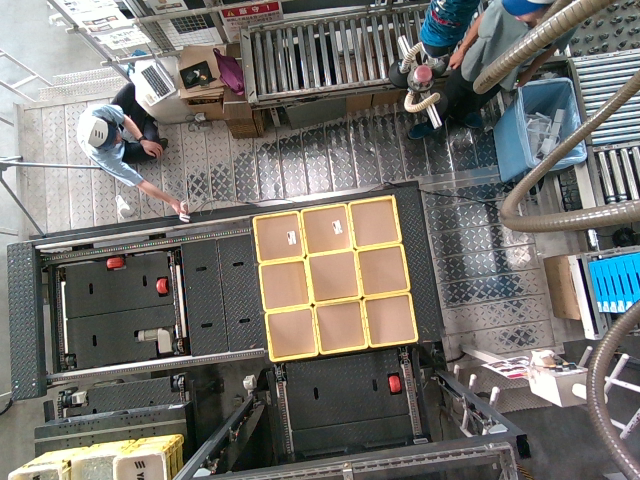box: (249, 212, 302, 260), (299, 205, 352, 253), (347, 199, 400, 247), (356, 245, 409, 293), (305, 253, 358, 301), (255, 259, 308, 307), (267, 310, 320, 358), (313, 301, 366, 349), (361, 293, 414, 341)
